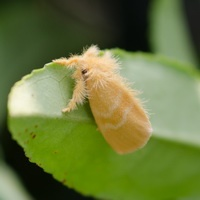insect: (53, 45, 151, 153)
